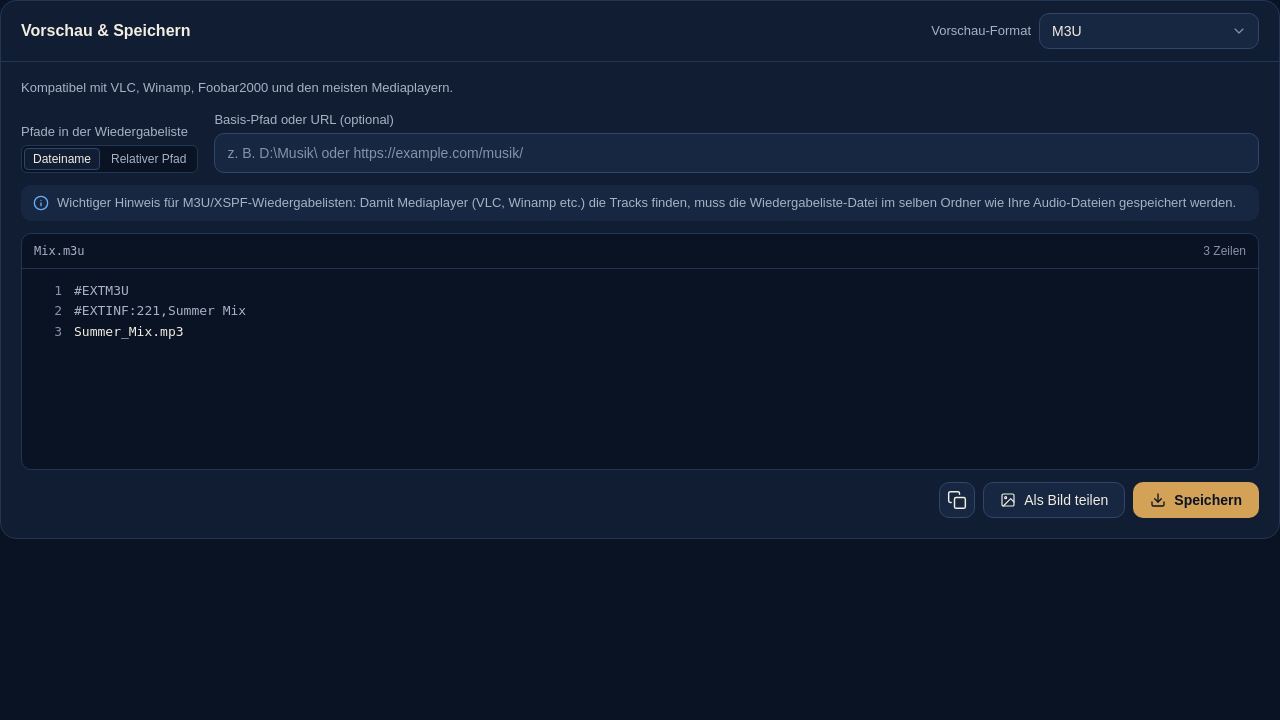
Scenario: PlaylistPreview › bietet YouTube-Kapitel als Textdatei ohne Pfad-Einstellungen an
The width and height of the screenshot is (1280, 720).
Select "YouTube-Kapitel" in the dropdown with id "outputFormat" at (1149, 31), box [1039, 13, 1259, 49]
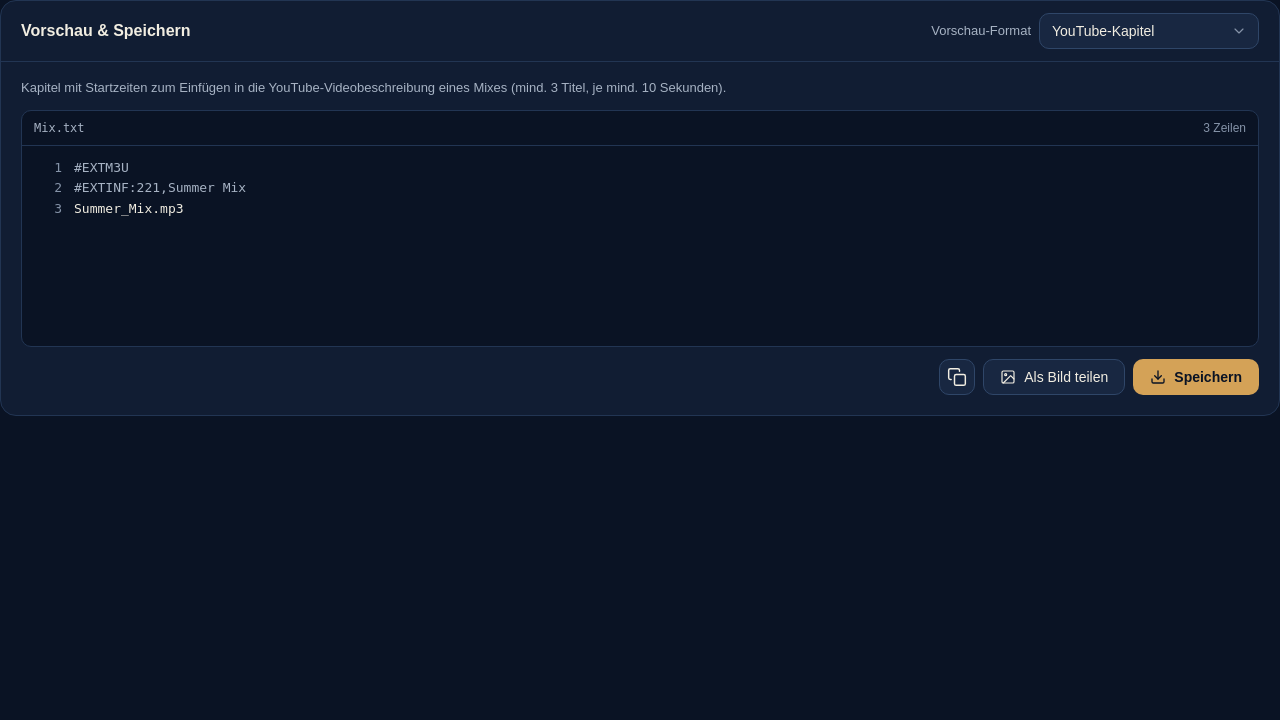
Result: the text "Mix.txt" is shown at [34, 120, 85, 134]
Result: the text "YouTube" is shown at [21, 80, 726, 95]
Result: the text "Pfade in der Wiedergabeliste" is gone
